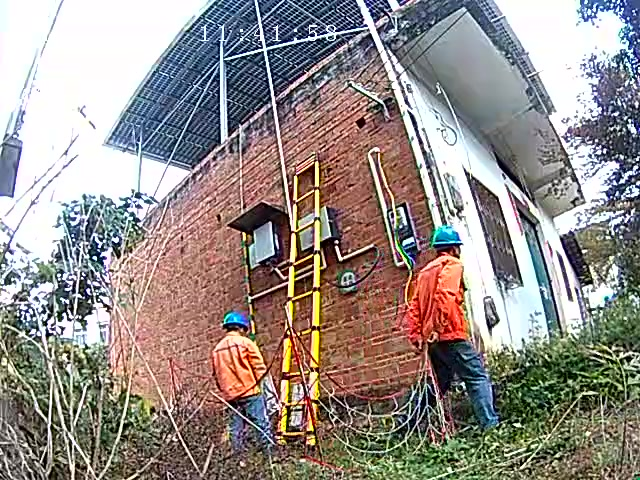downcloth: (225, 402, 273, 448)
downsuit: (426, 341, 493, 418)
halt: (432, 226, 463, 257), (222, 312, 252, 335)
hand: (429, 333, 439, 345)
person: (405, 225, 500, 430), (209, 310, 279, 455)
worksign: (339, 272, 356, 292)
yupsuit: (407, 258, 470, 343), (212, 336, 269, 397)
